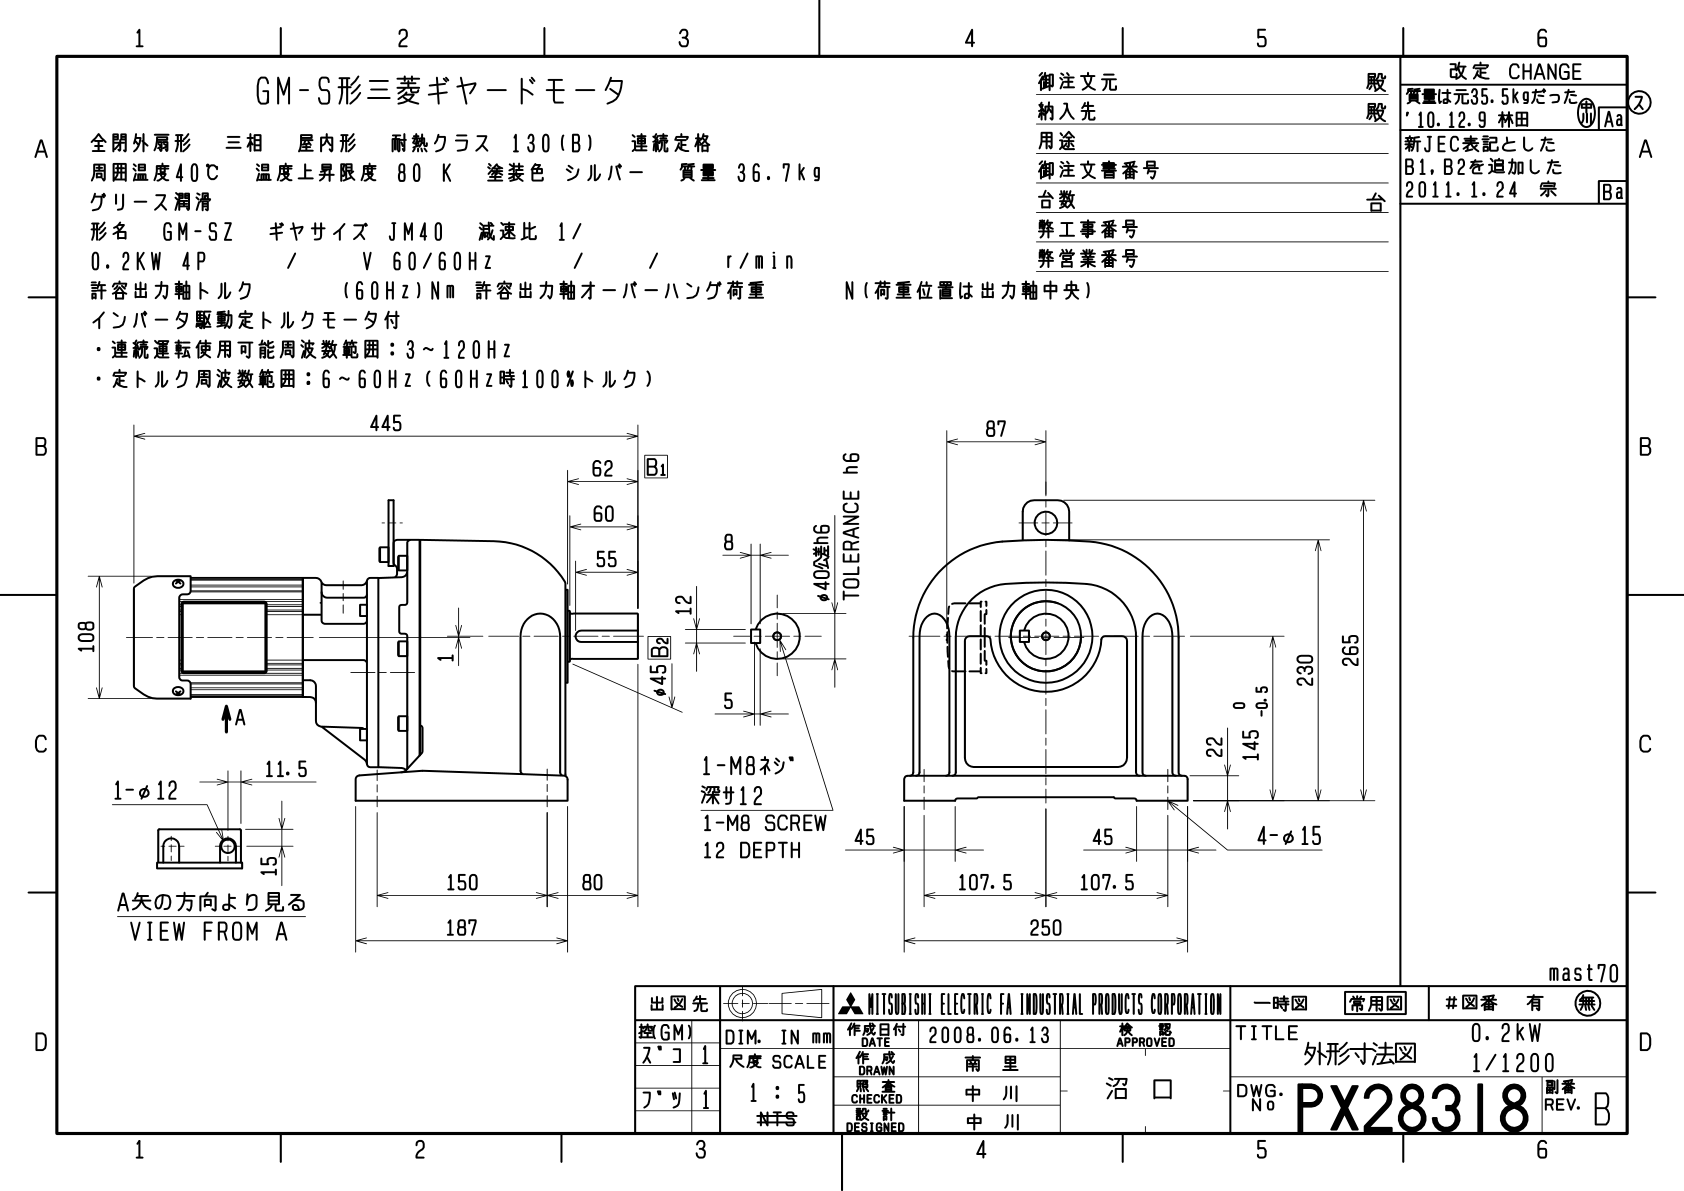GM_S_インバタ屋内＿三相_脚: (4, 5, 1669, 1179)
